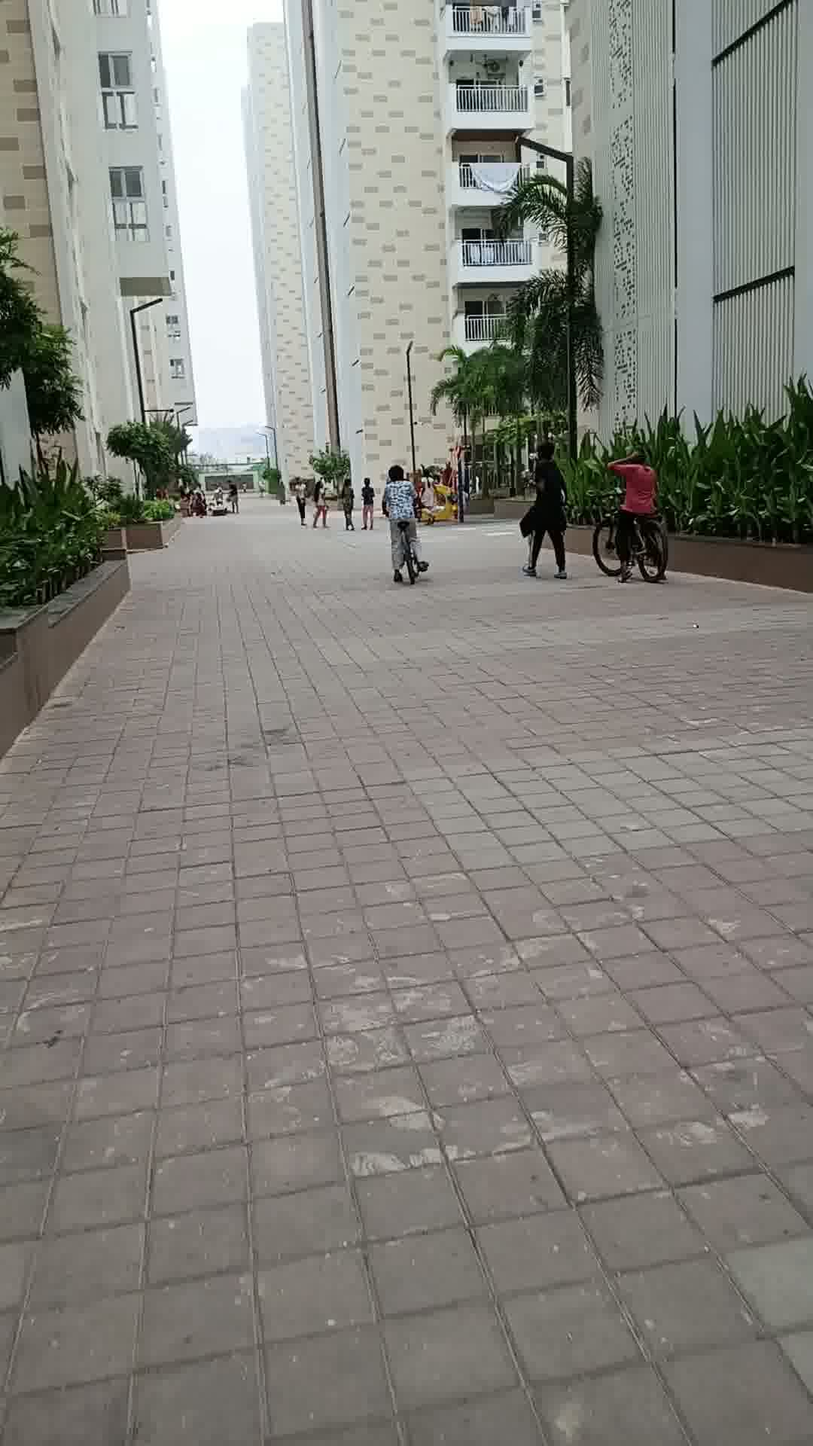bicycle: (586, 504, 678, 577)
person: (602, 433, 662, 581), (529, 434, 580, 593), (375, 456, 434, 589), (288, 462, 312, 531), (310, 471, 335, 537), (419, 467, 445, 523), (359, 473, 381, 539), (341, 466, 359, 538), (221, 469, 243, 523)
tree: (495, 142, 617, 467), (430, 307, 509, 532), (108, 393, 205, 529)
